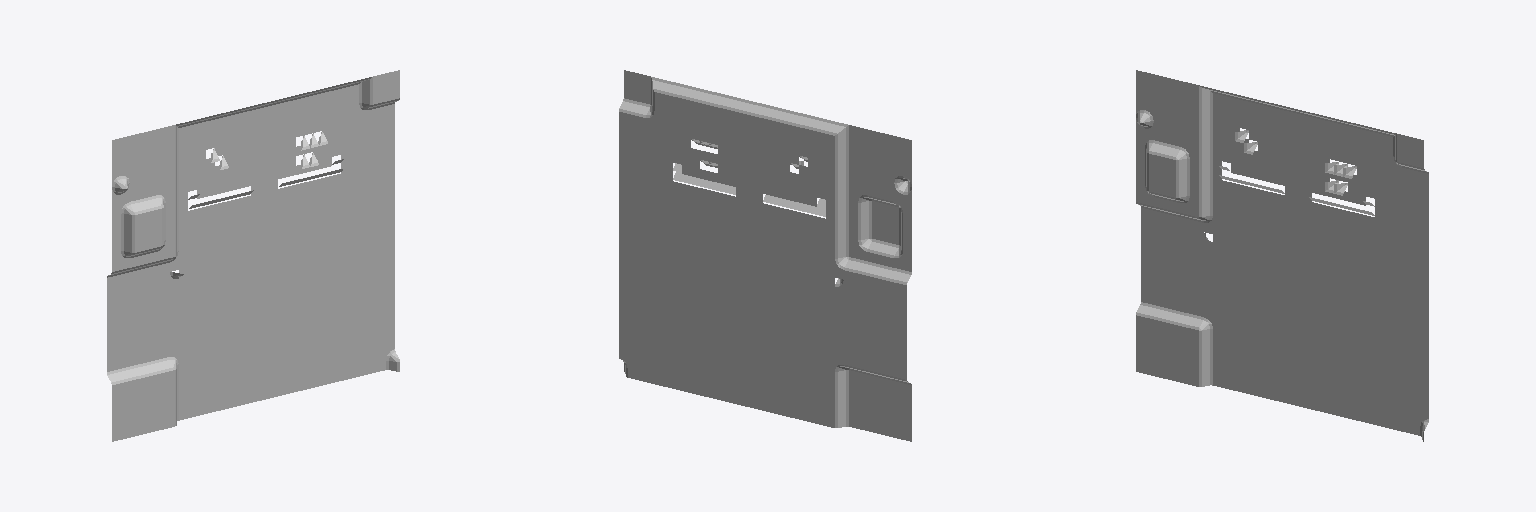
The model's file is Plat_full_08_10.obj.
The picture shows the model from 3 angles: view 1: azimuth 30°, elevation 25°; view 2: azimuth 150°, elevation 25°; view 3: azimuth 330°, elevation 25°; orthographic projection.
Visible parts, largest first — view 1: map; view 2: map; view 3: map.
Boxes of the visible parts, box(x1,y1,x2,y2) form: map: box(107, 70, 399, 441); map: box(619, 70, 911, 441); map: box(1136, 70, 1428, 441).
Bounding box in the file's own units: 32 × 32 × 2.